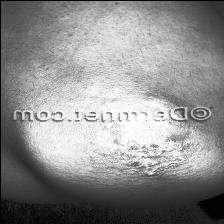Non-Cancerous Skin Condition: (57, 124, 210, 186)
